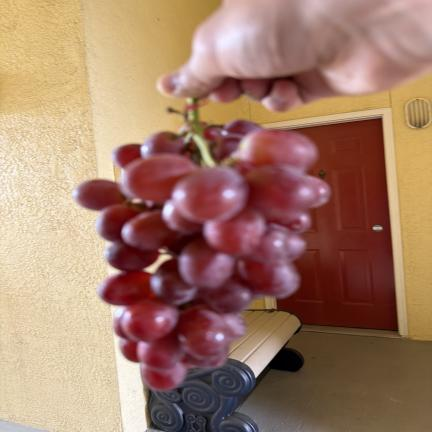grape_cluster: (73, 99, 330, 390)
